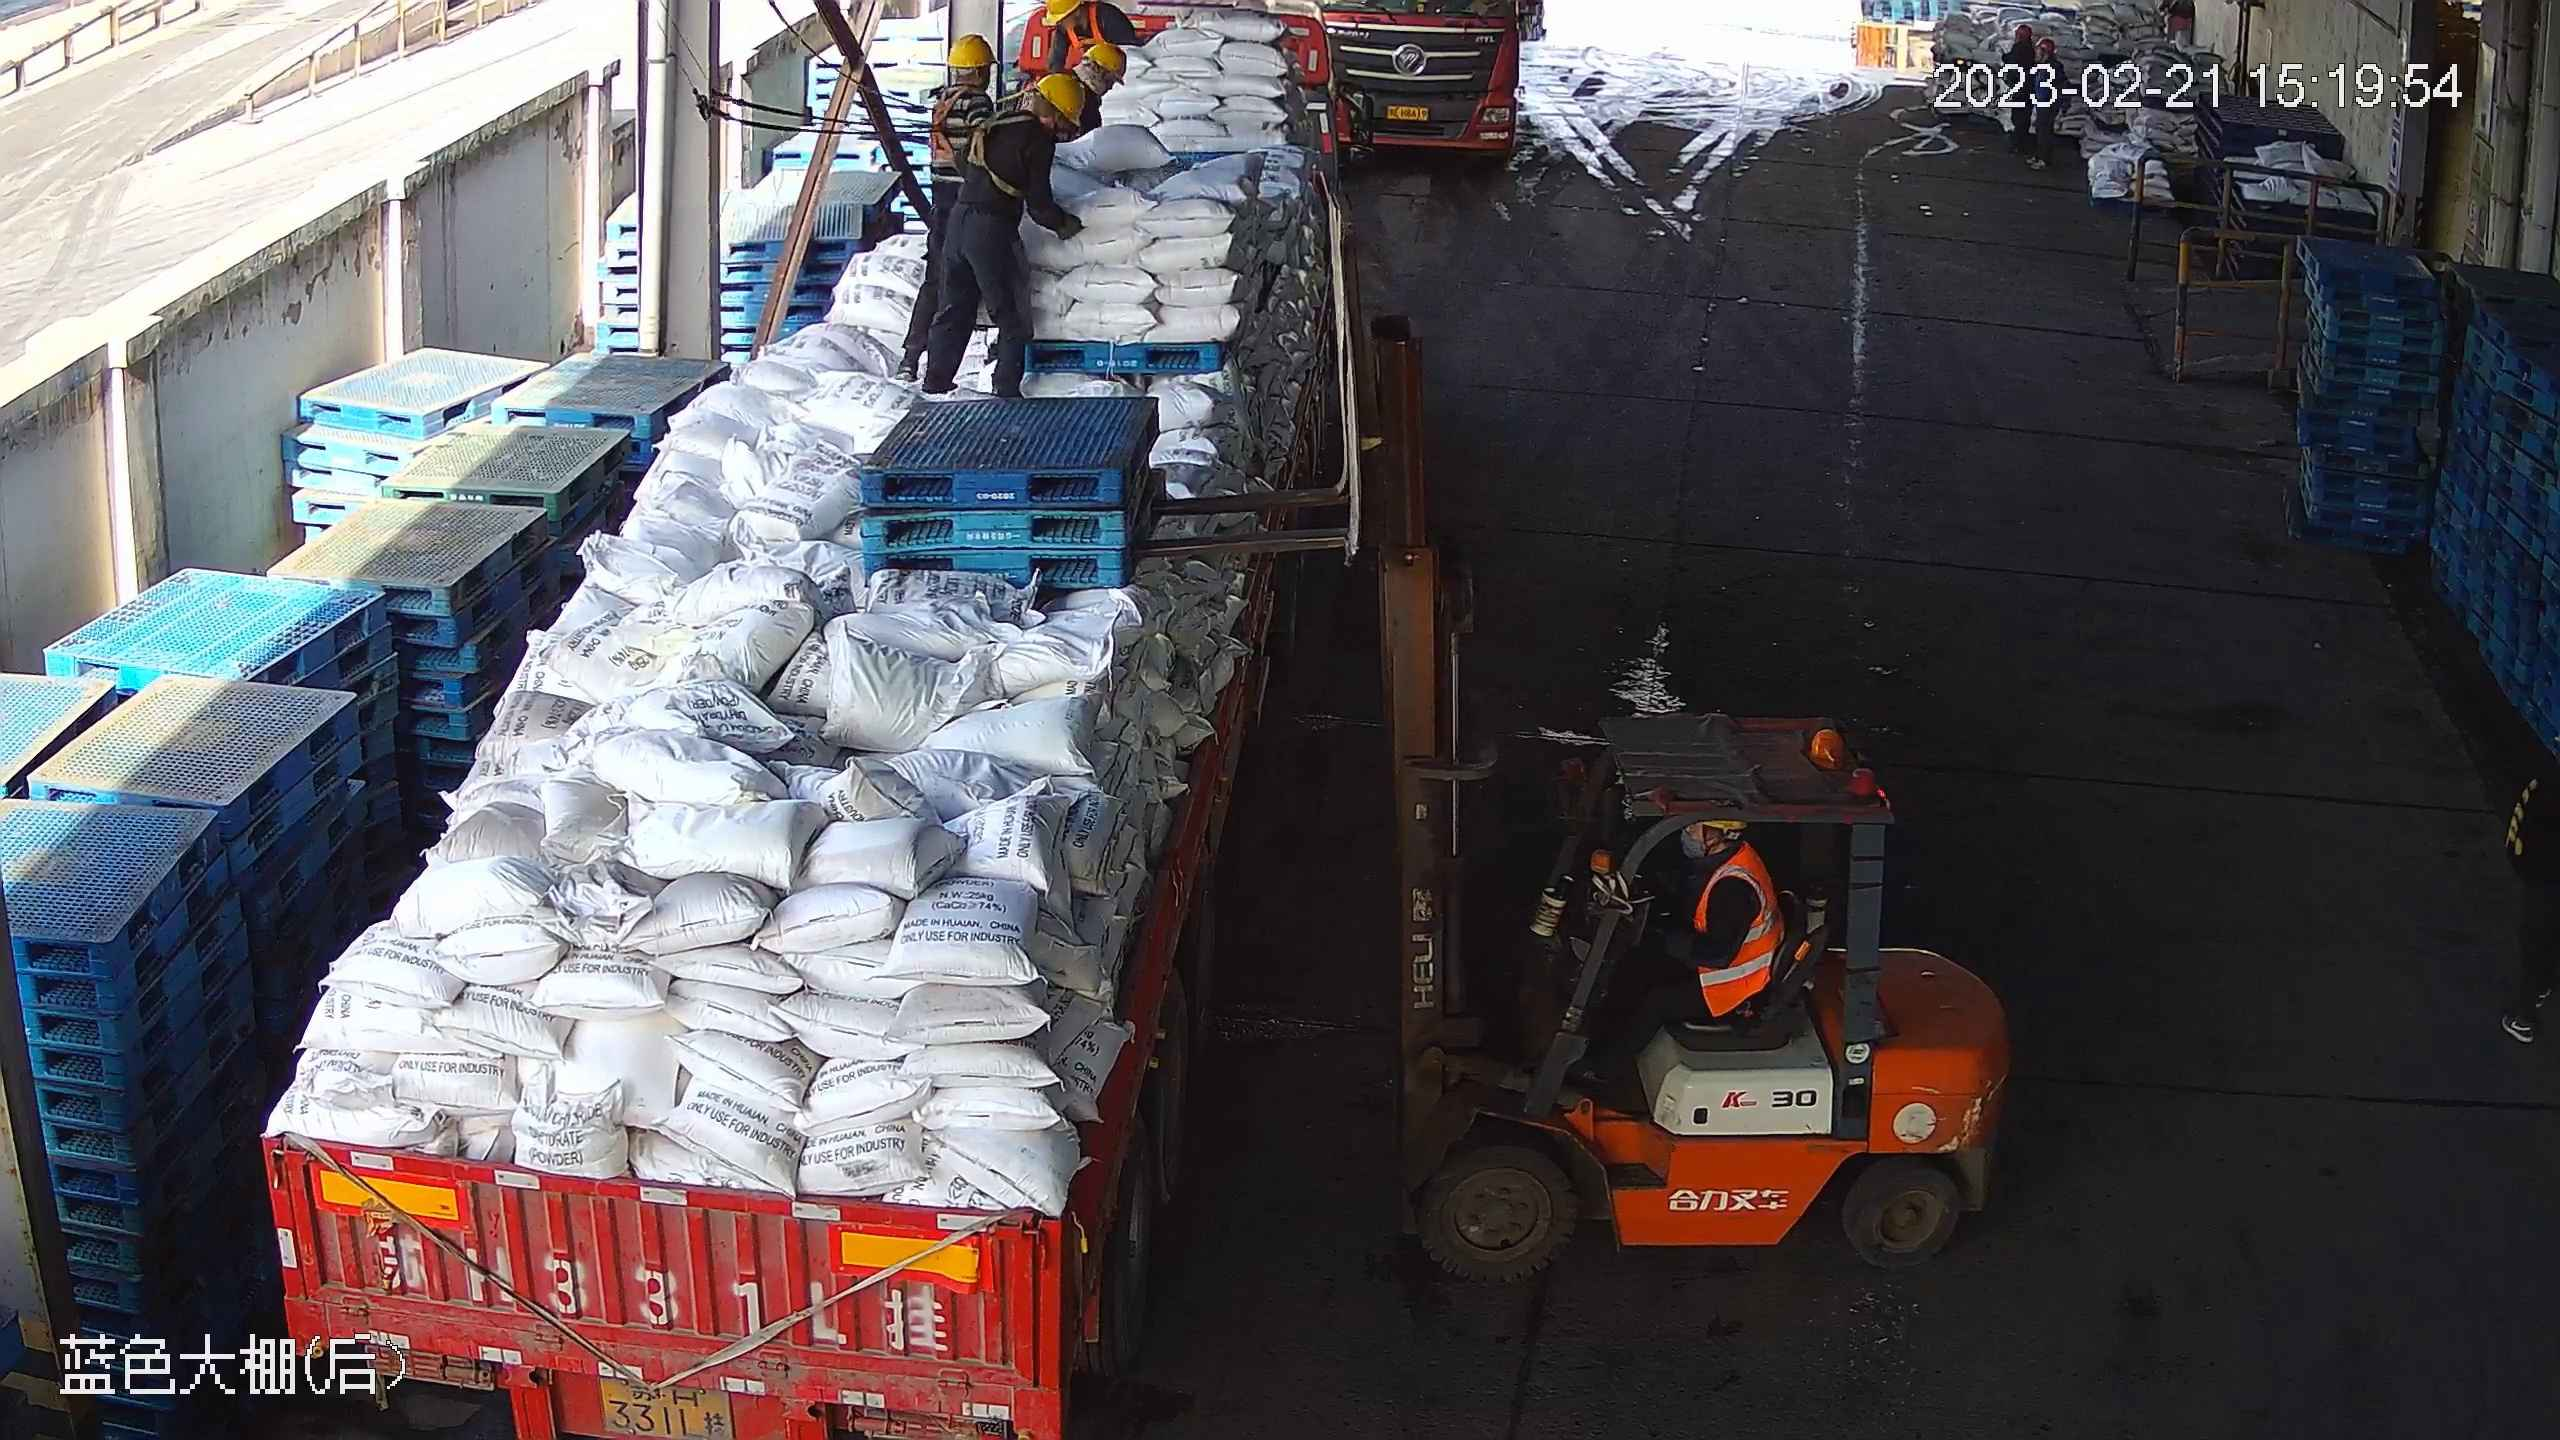belt: (969, 119, 1036, 196), (920, 91, 962, 157), (1063, 6, 1114, 53)
head: (965, 76, 1084, 171), (1676, 813, 1785, 903), (934, 35, 999, 121)
helmet: (1032, 71, 1089, 130), (1086, 37, 1134, 81), (943, 35, 1001, 65)
people: (931, 69, 1094, 397), (1623, 817, 1792, 1084)
truck: (254, 1, 1338, 1440), (1307, 1, 1533, 182)
